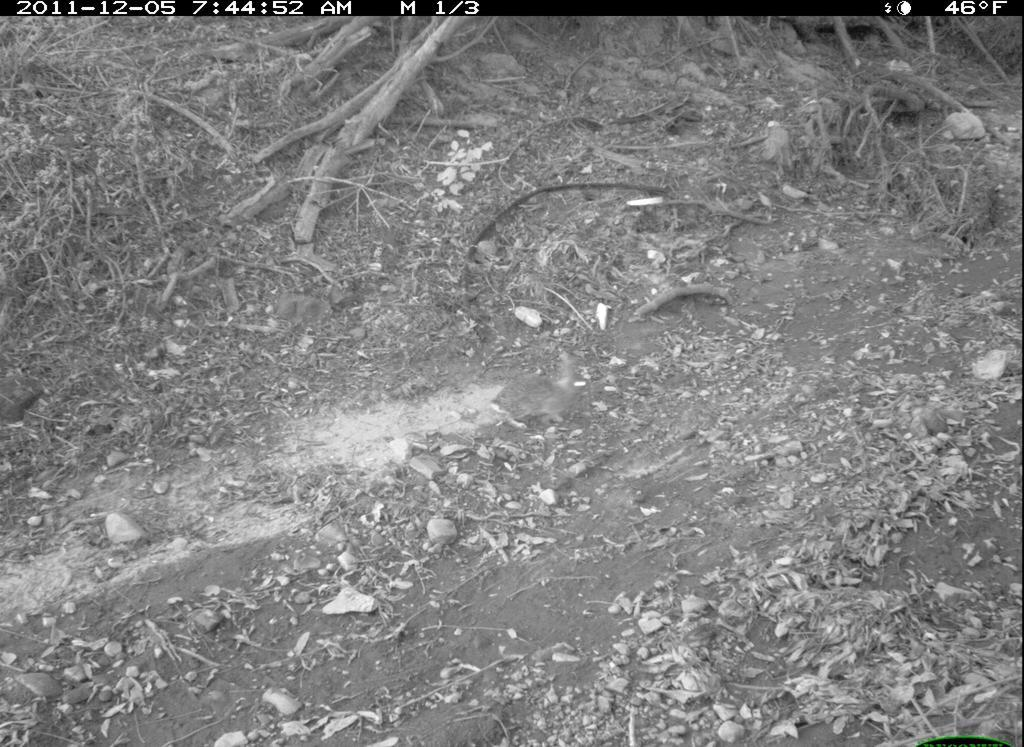rabbit: (489, 347, 596, 437)
